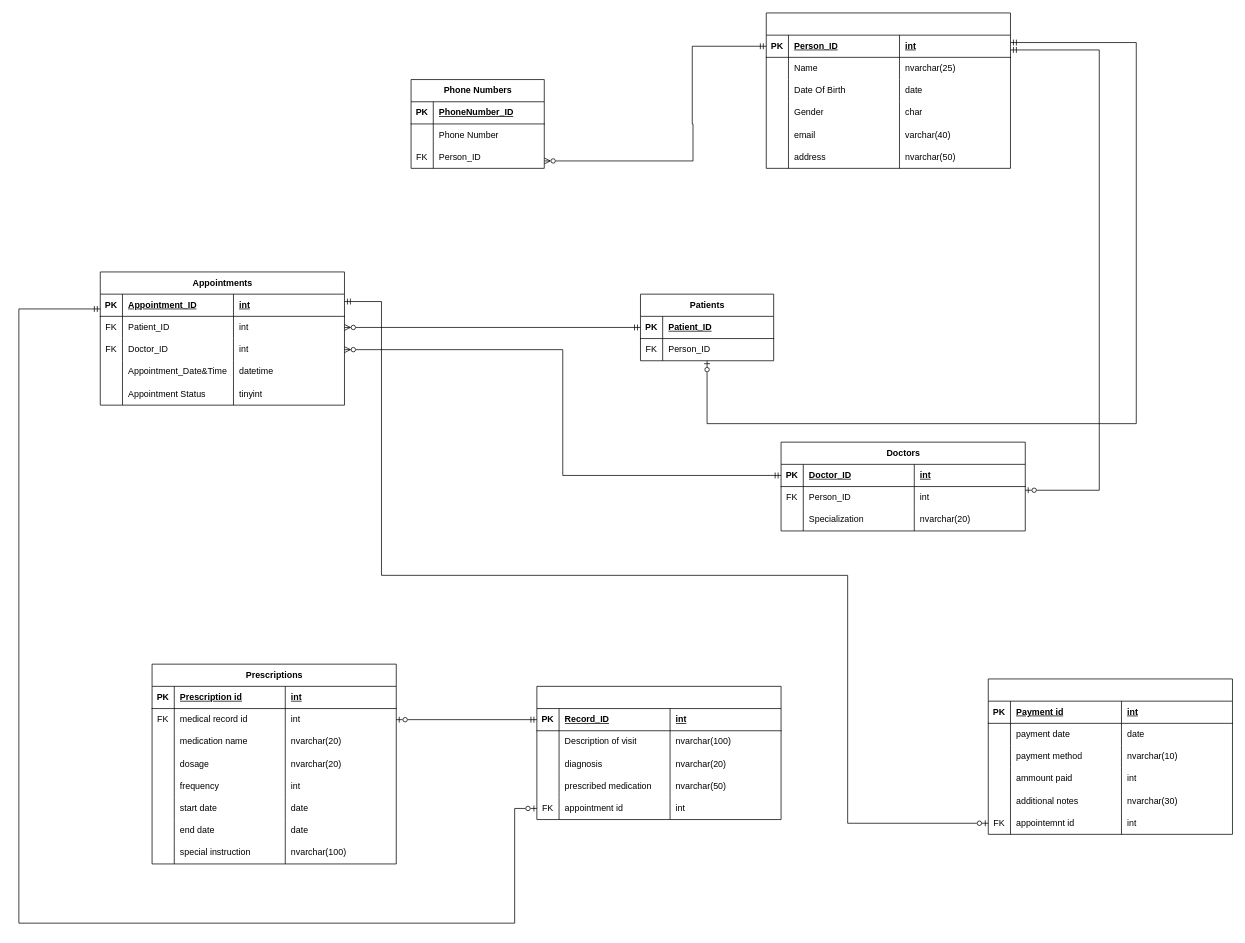
Image size: 1245x943. Some labels were removed from this diagram. The shapes that lost their labels are listed below. From the top down, each one's box as (x1, y1, x2, y2) in pixels, then its label:
(766, 12, 1010, 168): Persons
(536, 686, 781, 820): Medical Records
(988, 678, 1232, 834): Payments
